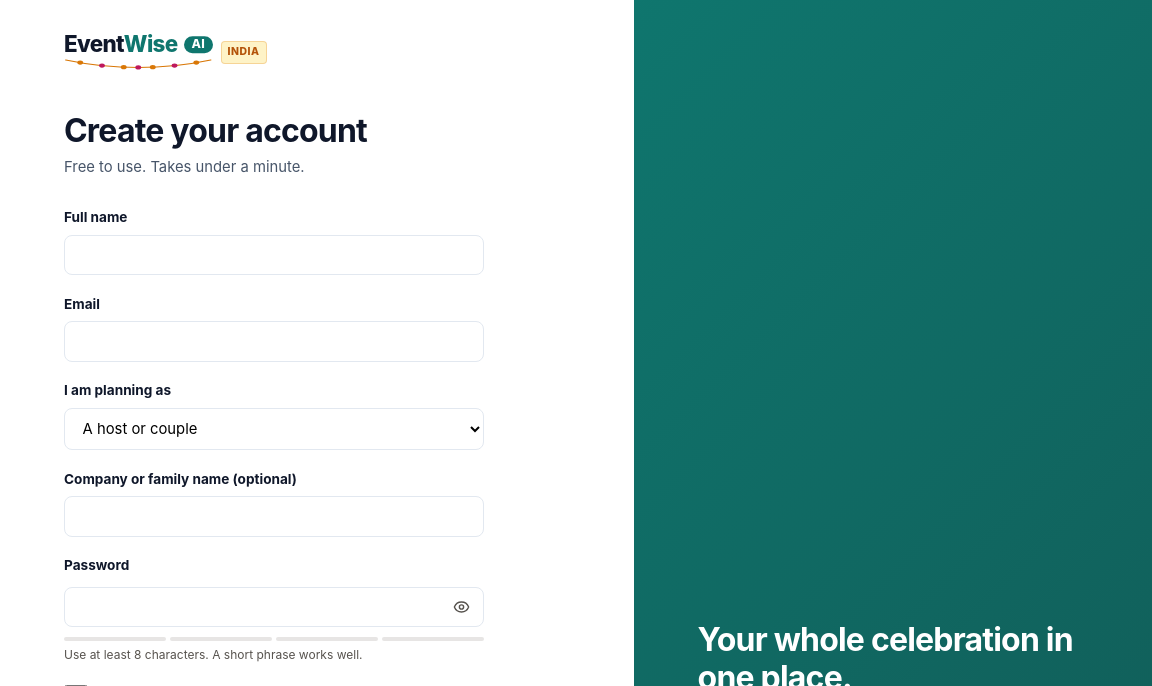
Test: Frontend Routing, Auth UI, and Safe Paths › shows signup error alert when server rejects registration
Expected: the heading "Create your account" is shown, [64, 110, 367, 150]
Step 1. Type "Ananya Sharma" into the field labelled "Full name" → (274, 255), box [64, 234, 484, 275]
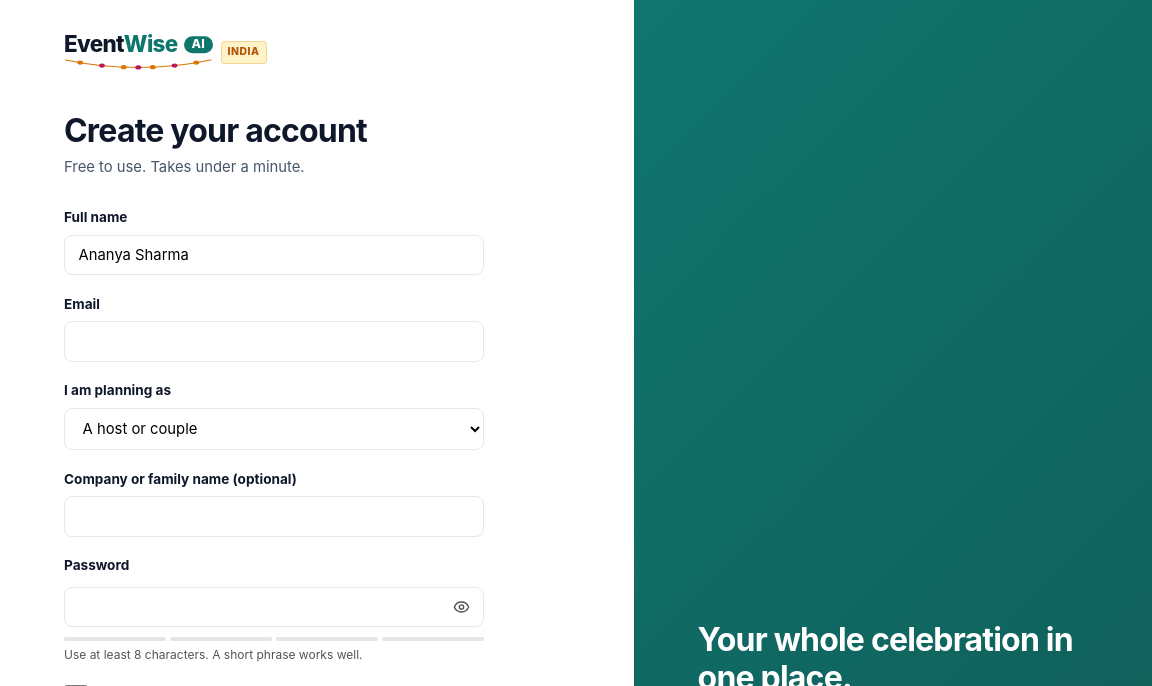
Step 2. Type "existing@example.com" into the field labelled "Email" → (274, 341), box [64, 321, 484, 362]
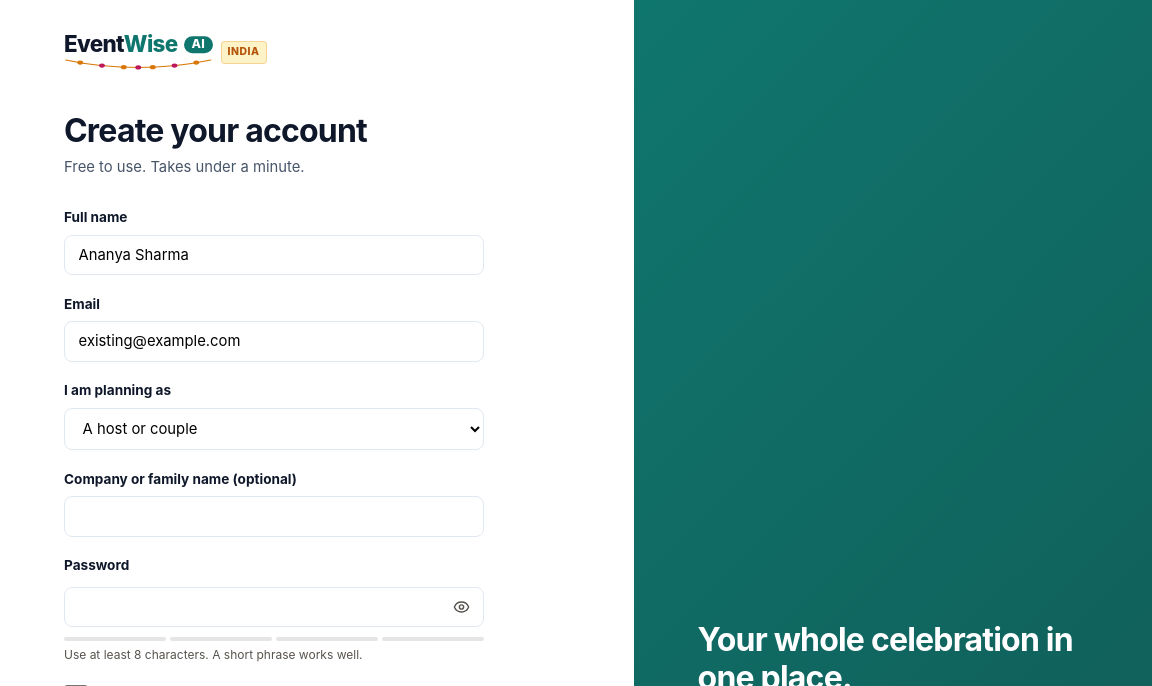
Step 3. Type "ValidPassword123!" into the password field labelled "Password" → (274, 607), box [64, 587, 484, 627]
(page scrolled)
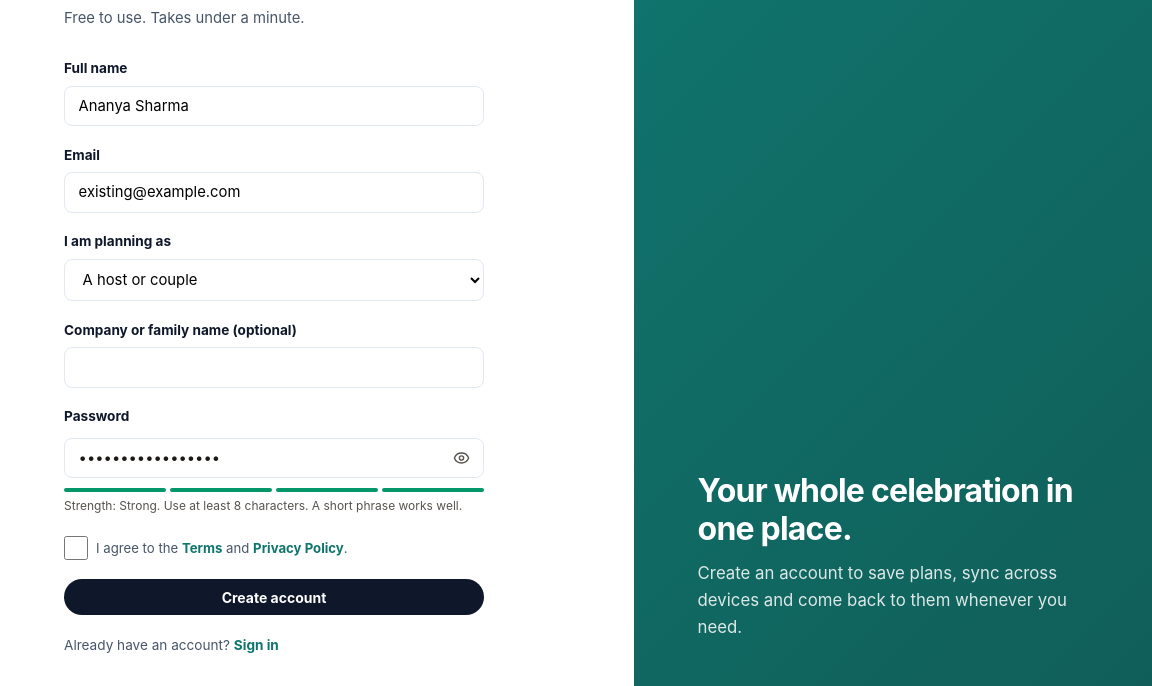
Step 4. Click the checkbox → click(76, 548), box [64, 536, 88, 560]
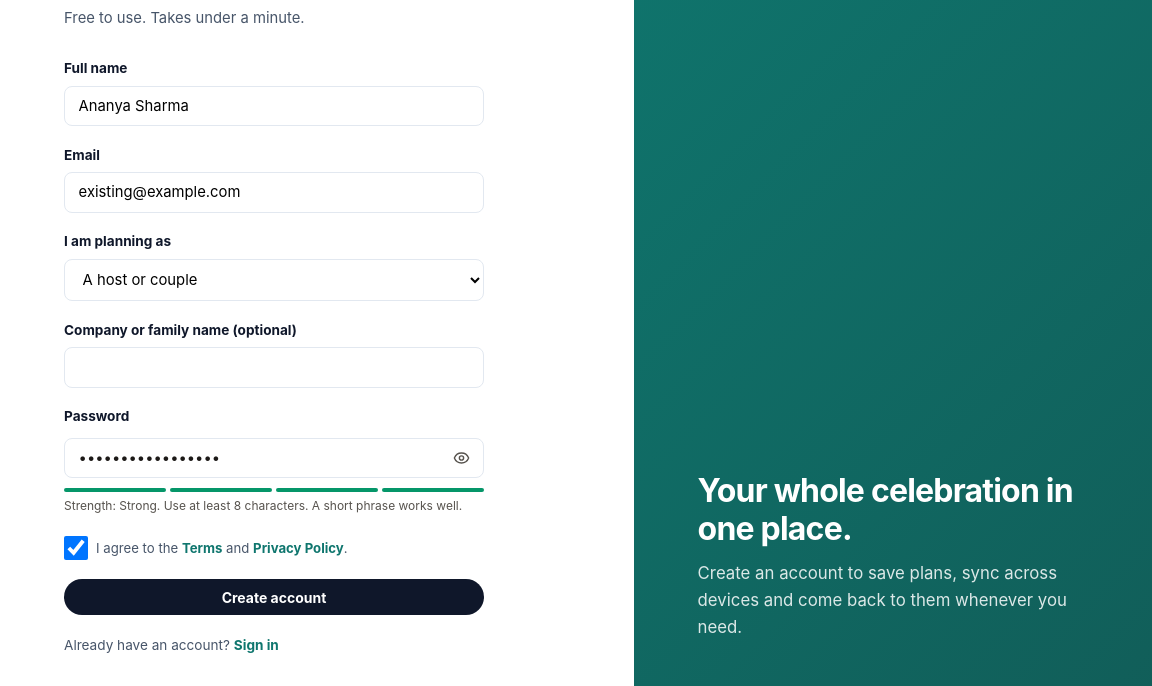
Step 5. Click the button "Create account" → click(274, 597), box [64, 579, 484, 615]
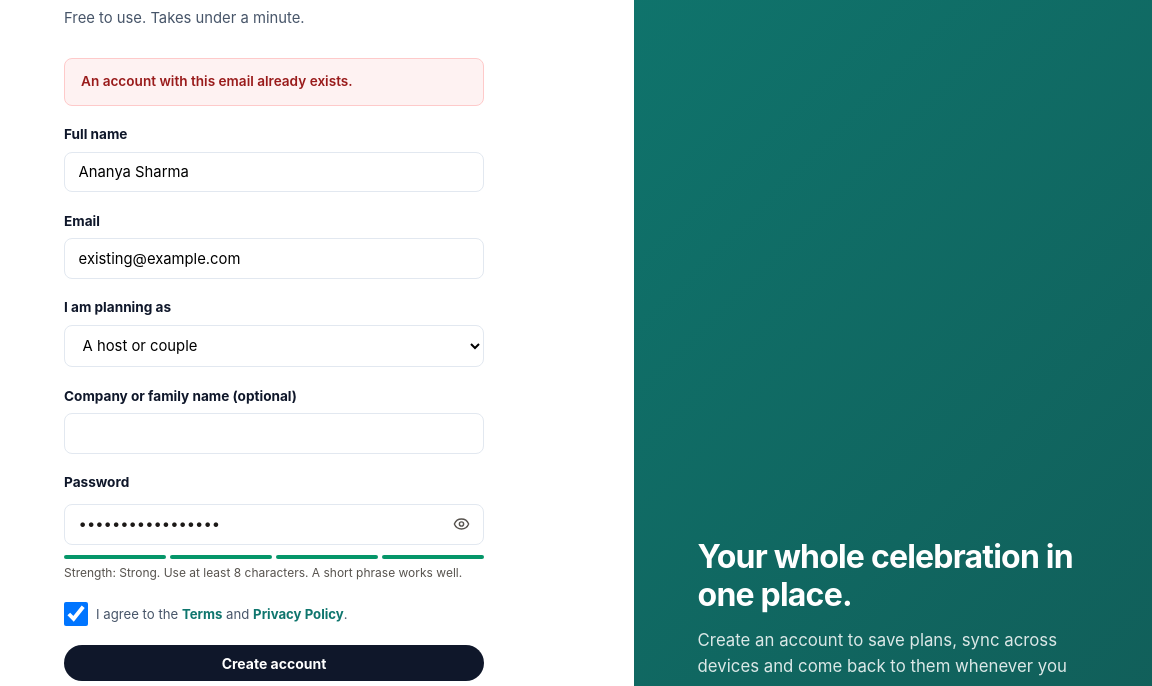
Expected: the message shows "An account with this email already exists", [81, 73, 353, 89]
